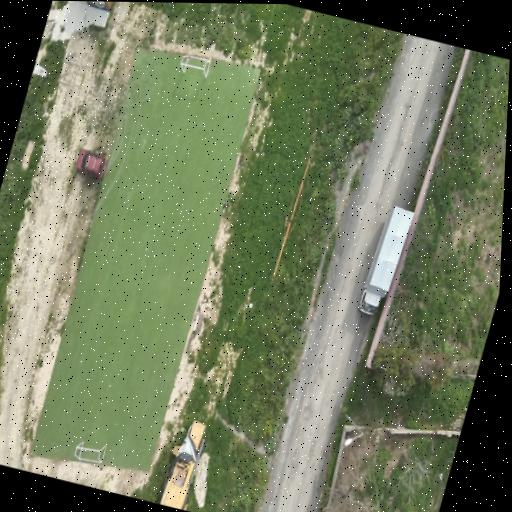car: (77, 149, 107, 179)
truck: (359, 207, 413, 315), (159, 421, 205, 510)
